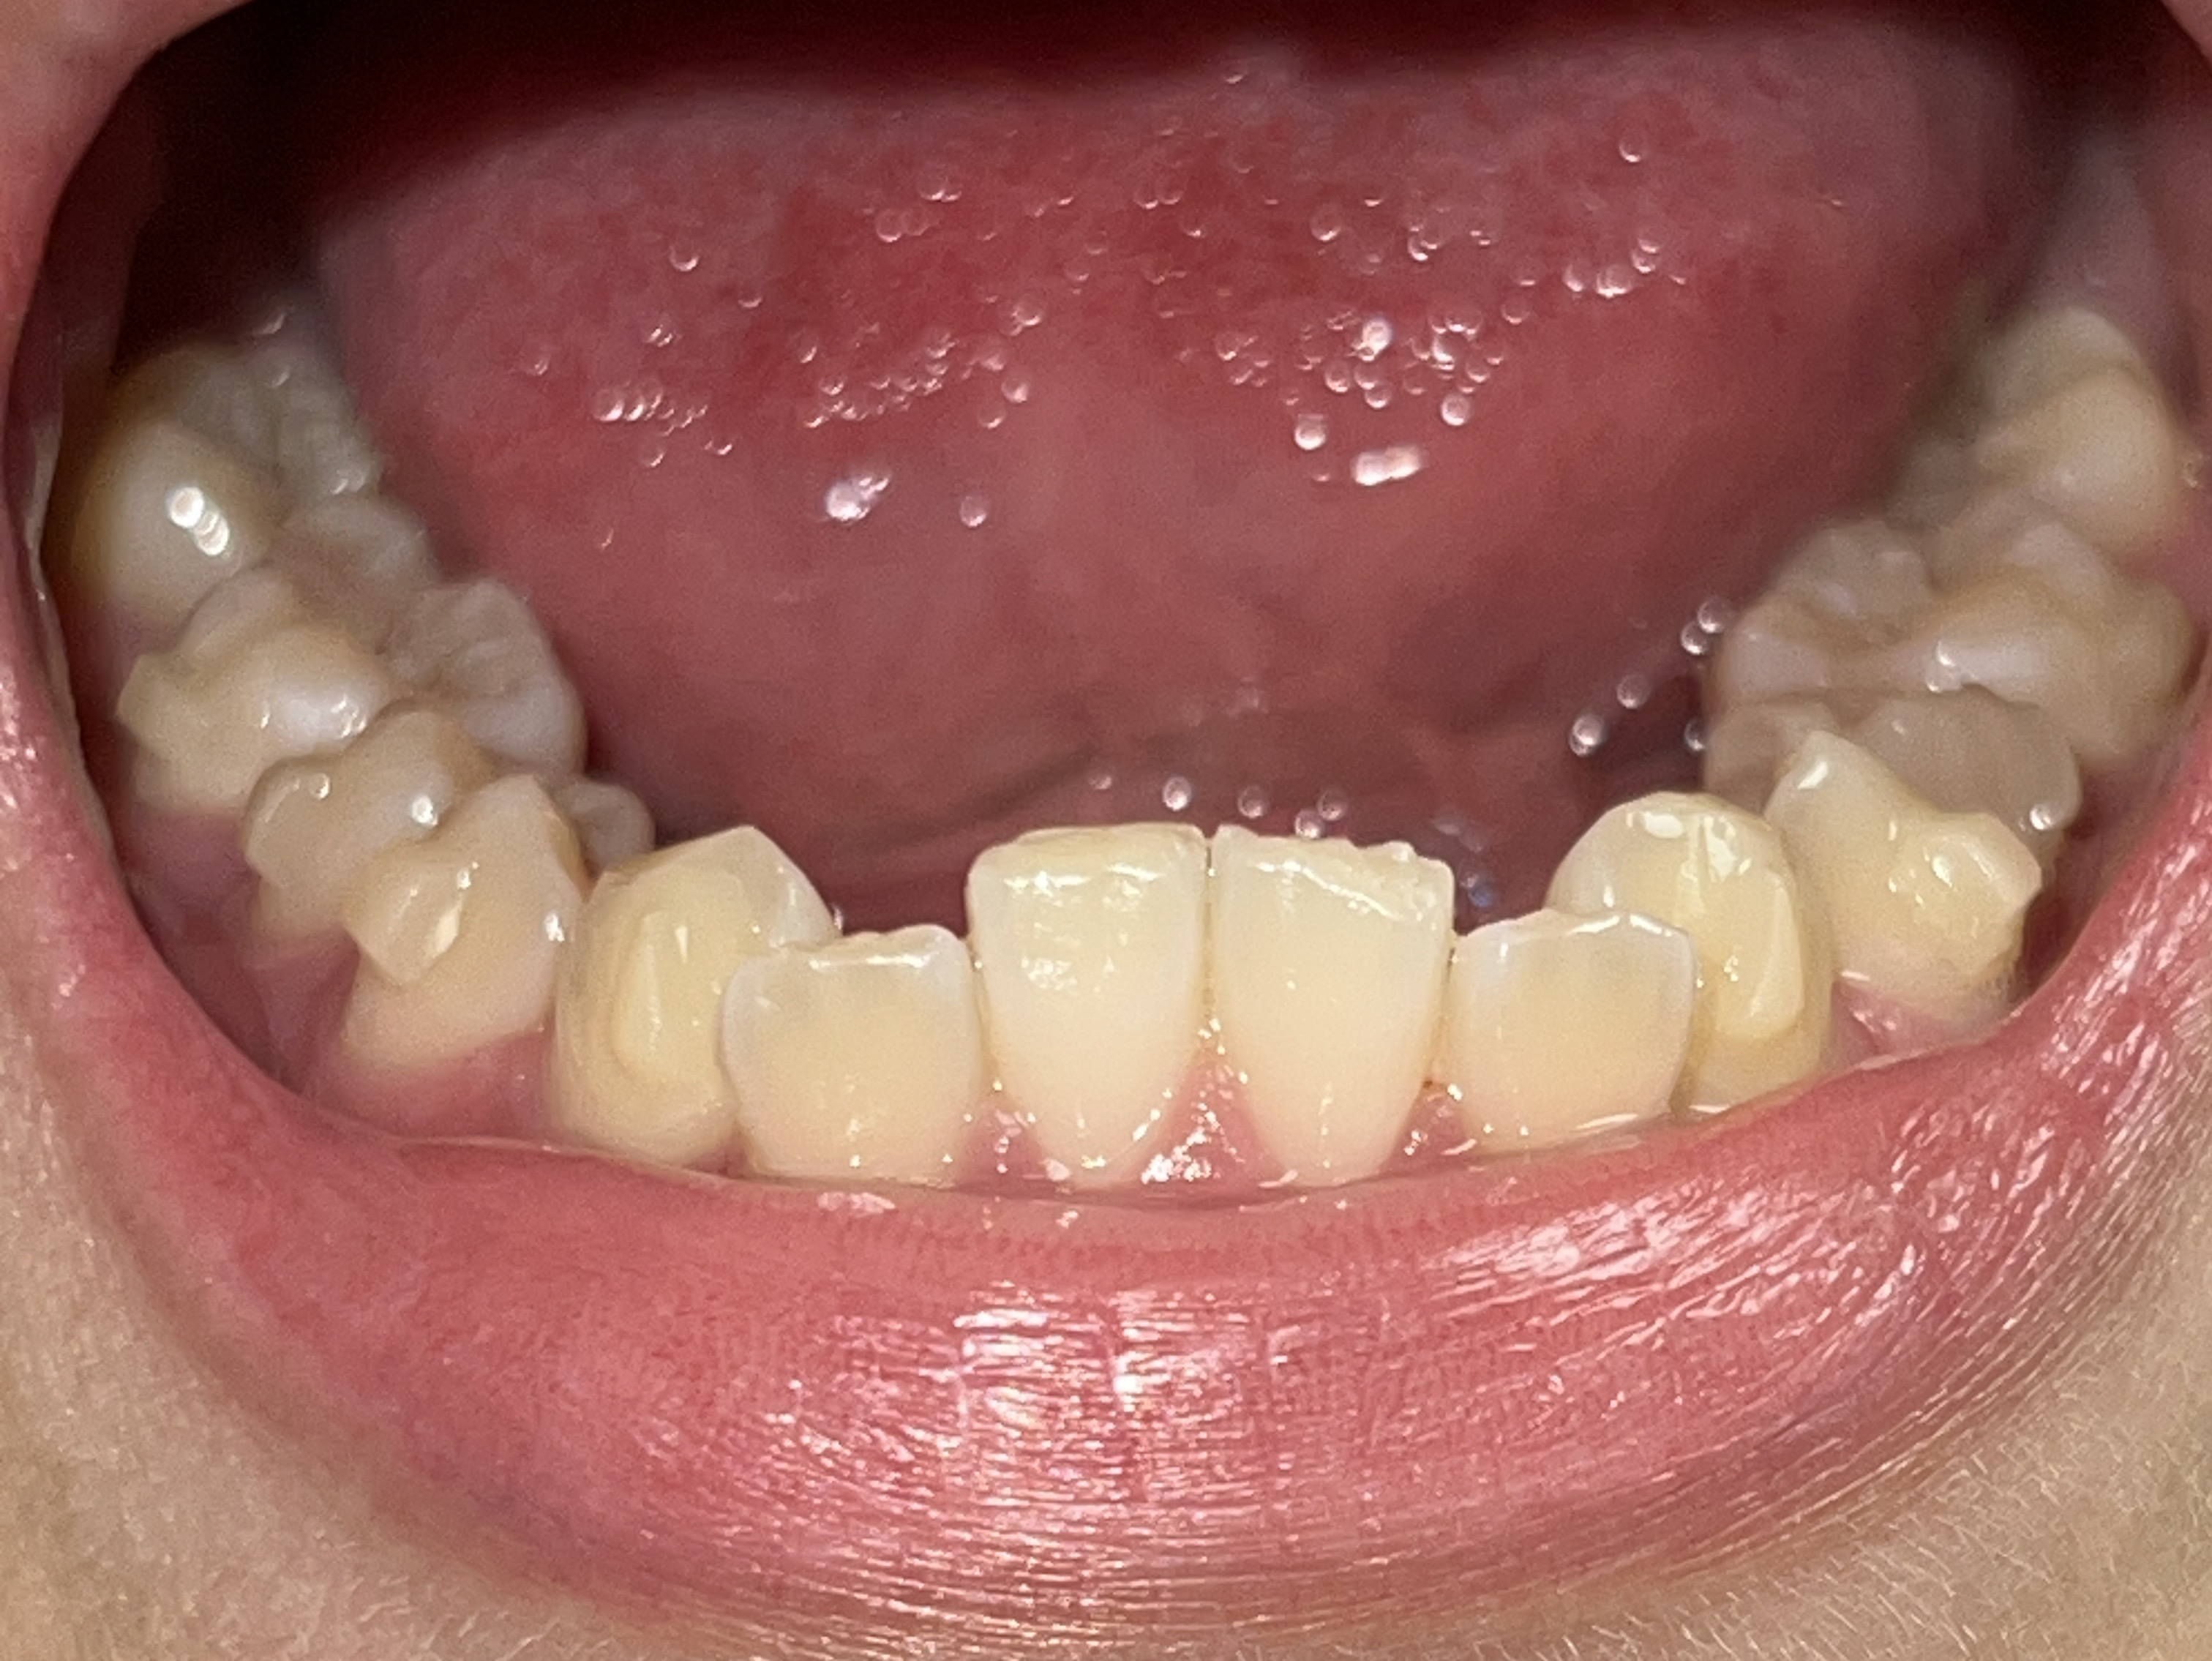teeth: (1760, 513, 2174, 740), (147, 576, 569, 790), (1558, 794, 1830, 1092), (73, 340, 370, 607), (1225, 837, 1448, 1172), (982, 853, 1176, 1157), (1790, 747, 1997, 1012), (567, 834, 743, 1136), (354, 789, 556, 1040), (1744, 698, 2053, 862), (1465, 940, 1687, 1146), (755, 961, 951, 1176), (284, 733, 487, 918)
